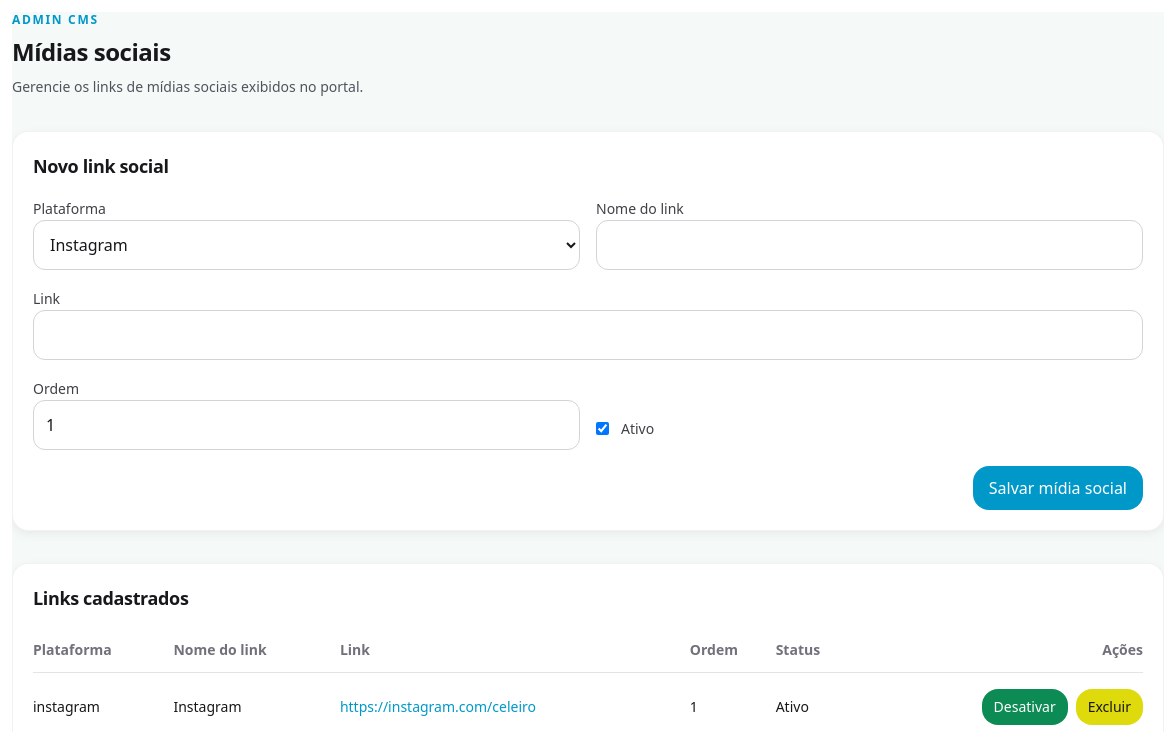
it: AdminSocialLinksPage › deve exibir erro ao falhar no toggle
Click the button "Desativar" at (1025, 707), box top-left (982, 689), bottom-right (1068, 725)
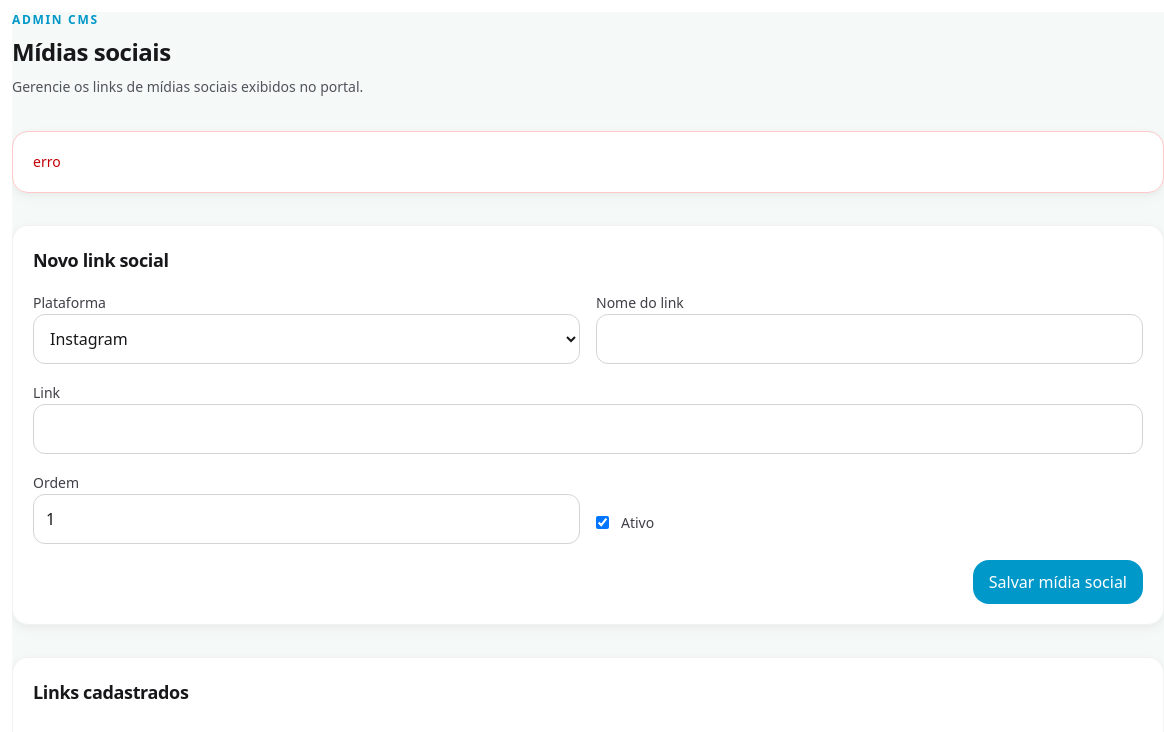
Now the text "erro" is shown, box top-left (33, 152), bottom-right (61, 171)
